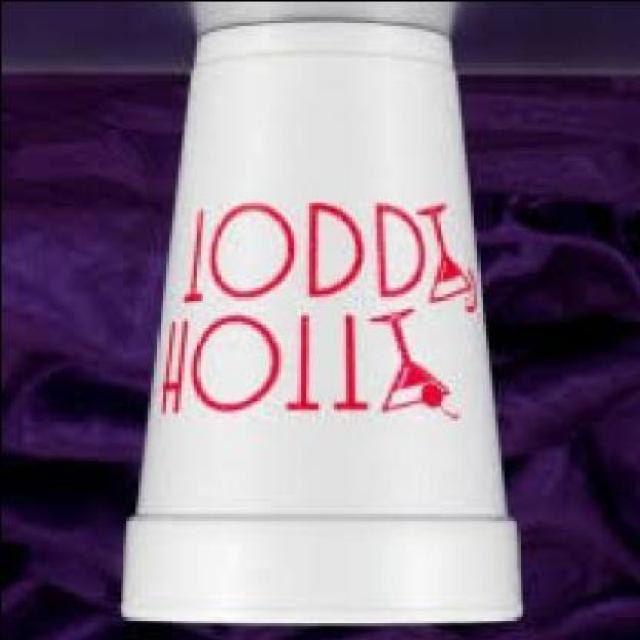PAPER: (116, 18, 518, 624)
